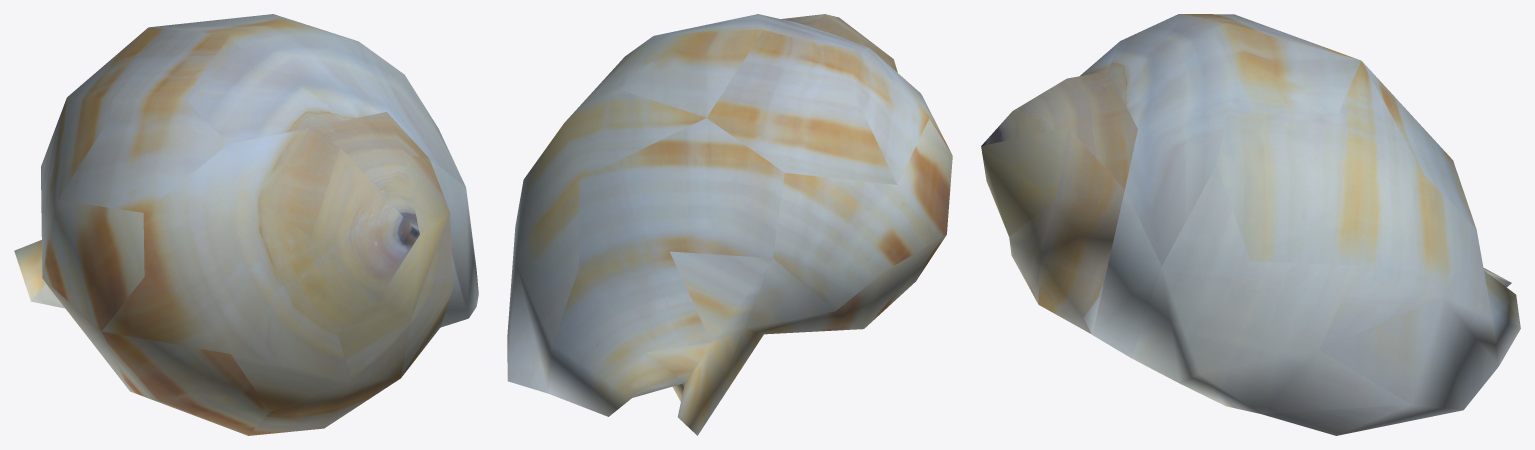
The model's file is SM_Seashell_18_LOD2.fbx.
The picture shows the model from 3 angles, left to right: view 1: azimuth 30°, elevation 25°; view 2: azimuth 150°, elevation 25°; view 3: azimuth 270°, elevation 25°; orthographic projection. The views are drawn at different scales.
Parts seen in each view (by area): view 1: SM_Seashell_18_LOD2; view 2: SM_Seashell_18_LOD2; view 3: SM_Seashell_18_LOD2.
Part boxes in pixels (bbox=[...]): SM_Seashell_18_LOD2: bbox=[14, 14, 478, 435]; SM_Seashell_18_LOD2: bbox=[507, 14, 952, 435]; SM_Seashell_18_LOD2: bbox=[981, 14, 1520, 435].
Bounding box in the file's own units: 7.33 × 6.06 × 9.36.
1 material, 1 textured.
